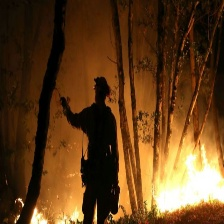fire: (147, 143, 224, 214), (15, 203, 83, 224)
